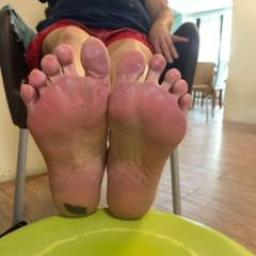Plantar View -Both Feet-: (10, 24, 200, 234)
